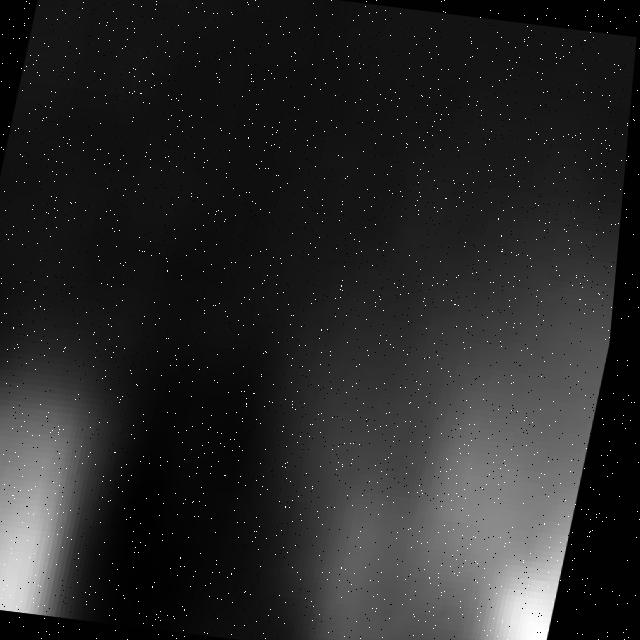person: (338, 234, 625, 640), (1, 252, 187, 624)
